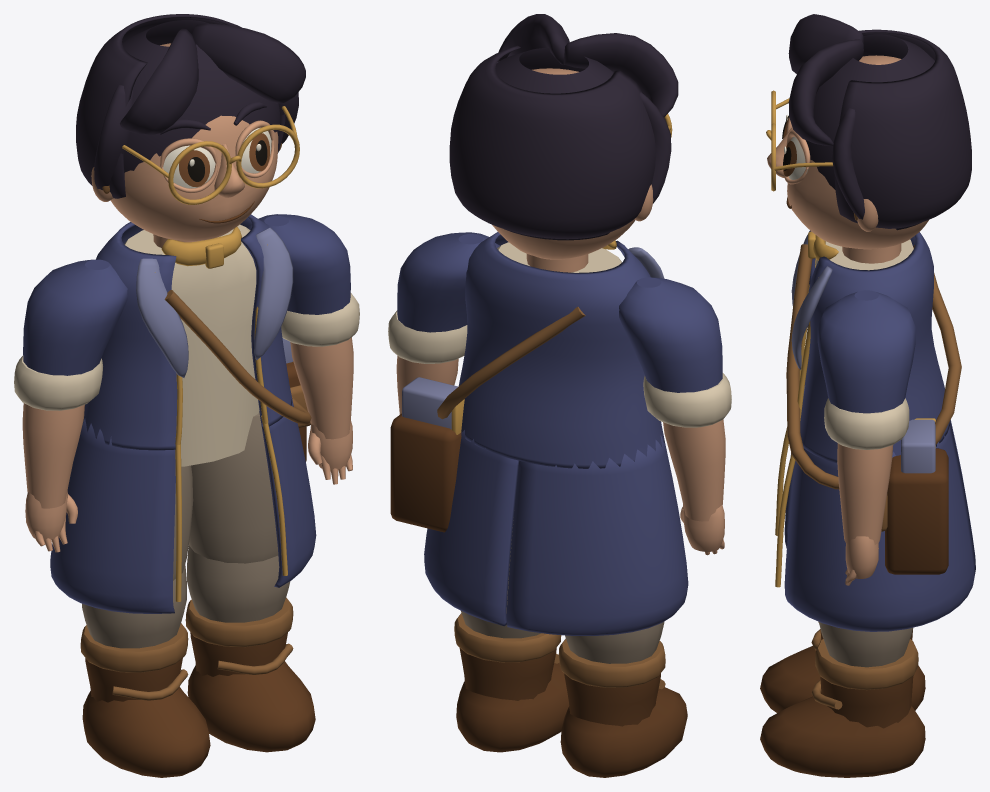
File: scholar-v1.glb
The picture shows the model from 3 angles, left to right: view 1: azimuth 30°, elevation 25°; view 2: azimuth 150°, elevation 25°; view 3: azimuth 270°, elevation 25°; orthographic projection.
Parts seen in each view (by area): view 1: Scholar_hip-following-skirt_-1, Scholar_long-layered-coat, Linen_shirt-body, left_sleeve, right_trouser-thigh, left_boot-foot, right_boot-foot, Face_continuous-cheek-chin-brow, Hair_cap-shaped-hairline, Scholar_continuous-bob-hair, right_sleeve, right_trouser-calf (+28 smaller); view 2: Scholar_long-layered-coat, Scholar_hip-following-skirt_-1, Scholar_continuous-bob-hair, Scholar_hip-following-skirt_1, left_sleeve, Scholar_bookbag-body, left_boot-foot, right_sleeve, right_boot-foot, left_forearm, Scholar_parted-fringe_-1, Hair_cap-shaped-hairline (+17 smaller); view 3: Scholar_hip-following-skirt_1, Scholar_continuous-bob-hair, Scholar_long-layered-coat, right_sleeve, right_boot-foot, Scholar_bookbag-body, Hair_cap-shaped-hairline, Scholar_bookbag-strap, Face_continuous-cheek-chin-brow, right_forearm, Scholar_parted-fringe_1, right_rolled-cuff (+16 smaller).
Boxes of the visible parts, x1,y1,x2,y2 form: Scholar_hip-following-skirt_-1: (50, 418, 175, 613); Scholar_long-layered-coat: (83, 214, 292, 450); Linen_shirt-body: (124, 224, 259, 466); left_sleeve: (23, 259, 127, 375); right_trouser-thigh: (189, 412, 278, 563); left_boot-foot: (82, 686, 210, 777); right_boot-foot: (187, 661, 315, 752); Face_continuous-cheek-chin-brow: (110, 43, 278, 240); Hair_cap-shaped-hairline: (122, 20, 280, 172); Scholar_continuous-bob-hair: (76, 14, 285, 198); right_sleeve: (247, 214, 350, 314); right_trouser-calf: (187, 545, 290, 622); Scholar_long-layered-coat: (458, 232, 664, 468); Scholar_hip-following-skirt_-1: (506, 435, 688, 635); Scholar_continuous-bob-hair: (449, 45, 655, 239); Scholar_hip-following-skirt_1: (424, 430, 519, 626); left_sleeve: (619, 277, 722, 392); Scholar_bookbag-body: (390, 413, 461, 532); left_boot-foot: (560, 687, 687, 777); right_sleeve: (397, 232, 500, 332); right_boot-foot: (456, 662, 569, 752); left_forearm: (663, 419, 725, 521); Scholar_parted-fringe_-1: (563, 33, 678, 117); Hair_cap-shaped-hairline: (495, 48, 613, 240); Scholar_hip-following-skirt_1: (784, 421, 975, 631); Scholar_continuous-bob-hair: (834, 29, 971, 228); Scholar_long-layered-coat: (800, 232, 950, 463); right_sleeve: (817, 290, 915, 413); right_boot-foot: (760, 692, 925, 777); Scholar_bookbag-body: (885, 448, 948, 574); Hair_cap-shaped-hairline: (805, 34, 934, 230); Scholar_bookbag-strap: (786, 244, 961, 489); Face_continuous-cheek-chin-brow: (787, 55, 928, 249); right_forearm: (837, 443, 893, 544); Scholar_parted-fringe_1: (788, 39, 863, 145); right_rolled-cuff: (824, 398, 909, 449).
Bounding box in the file's own units: 1.11 × 2.25 × 0.6272.
